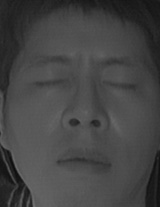blink: (101, 69, 139, 98), (29, 71, 65, 95)
mouth: (52, 142, 116, 180)
